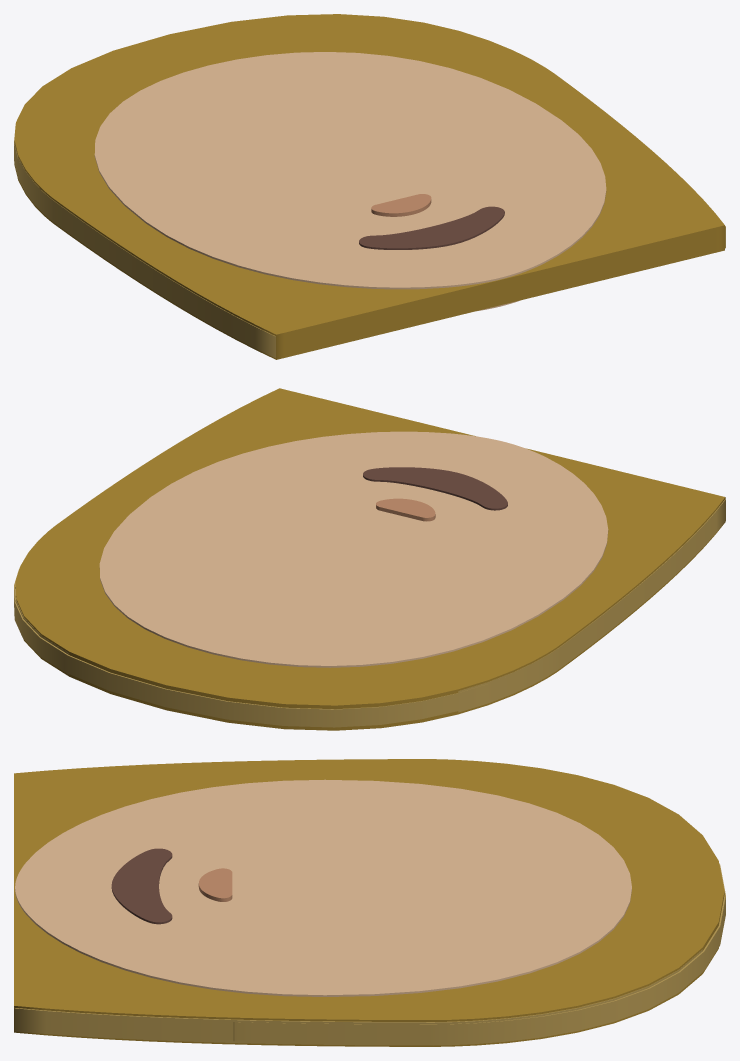
The model's file is emoji_u1f469_1f3fc.glb.
3 views of the same model, one above another, from view 1: azimuth 30°, elevation 25°; view 2: azimuth 150°, elevation 25°; view 3: azimuth 270°, elevation 25° (orthographic). The views are drawn at different scales.
Parts seen in each view (by area): view 1: emoji_u1f469_1f3fc; view 2: emoji_u1f469_1f3fc; view 3: emoji_u1f469_1f3fc.
Boxes of the visible parts, bbox=[...] form: emoji_u1f469_1f3fc: bbox=[14, 14, 725, 359]; emoji_u1f469_1f3fc: bbox=[14, 388, 725, 730]; emoji_u1f469_1f3fc: bbox=[14, 759, 725, 1046].
Size of the model in its own units: 0.0293 by 0.002 by 0.0337.
